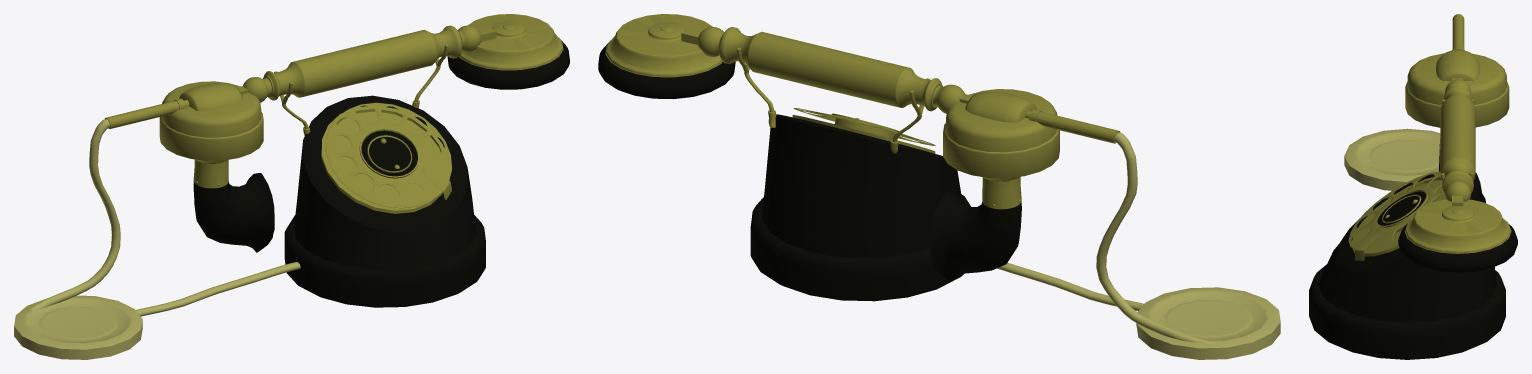
File: Phone01.fbx
The picture shows the model from 3 angles, left to right: view 1: azimuth 30°, elevation 25°; view 2: azimuth 150°, elevation 25°; view 3: azimuth 270°, elevation 25°; orthographic projection. The views are drawn at different scales.
Parts seen in each view (by area): view 1: persp4; view 2: persp4; view 3: persp4.
Boxes of the visible parts, x1,y1,x2,y2 form: persp4: (14, 14, 569, 359); persp4: (598, 14, 1280, 359); persp4: (1309, 14, 1517, 359).
Bounding box in the file's own units: 18.7 × 6.72 × 6.14.
